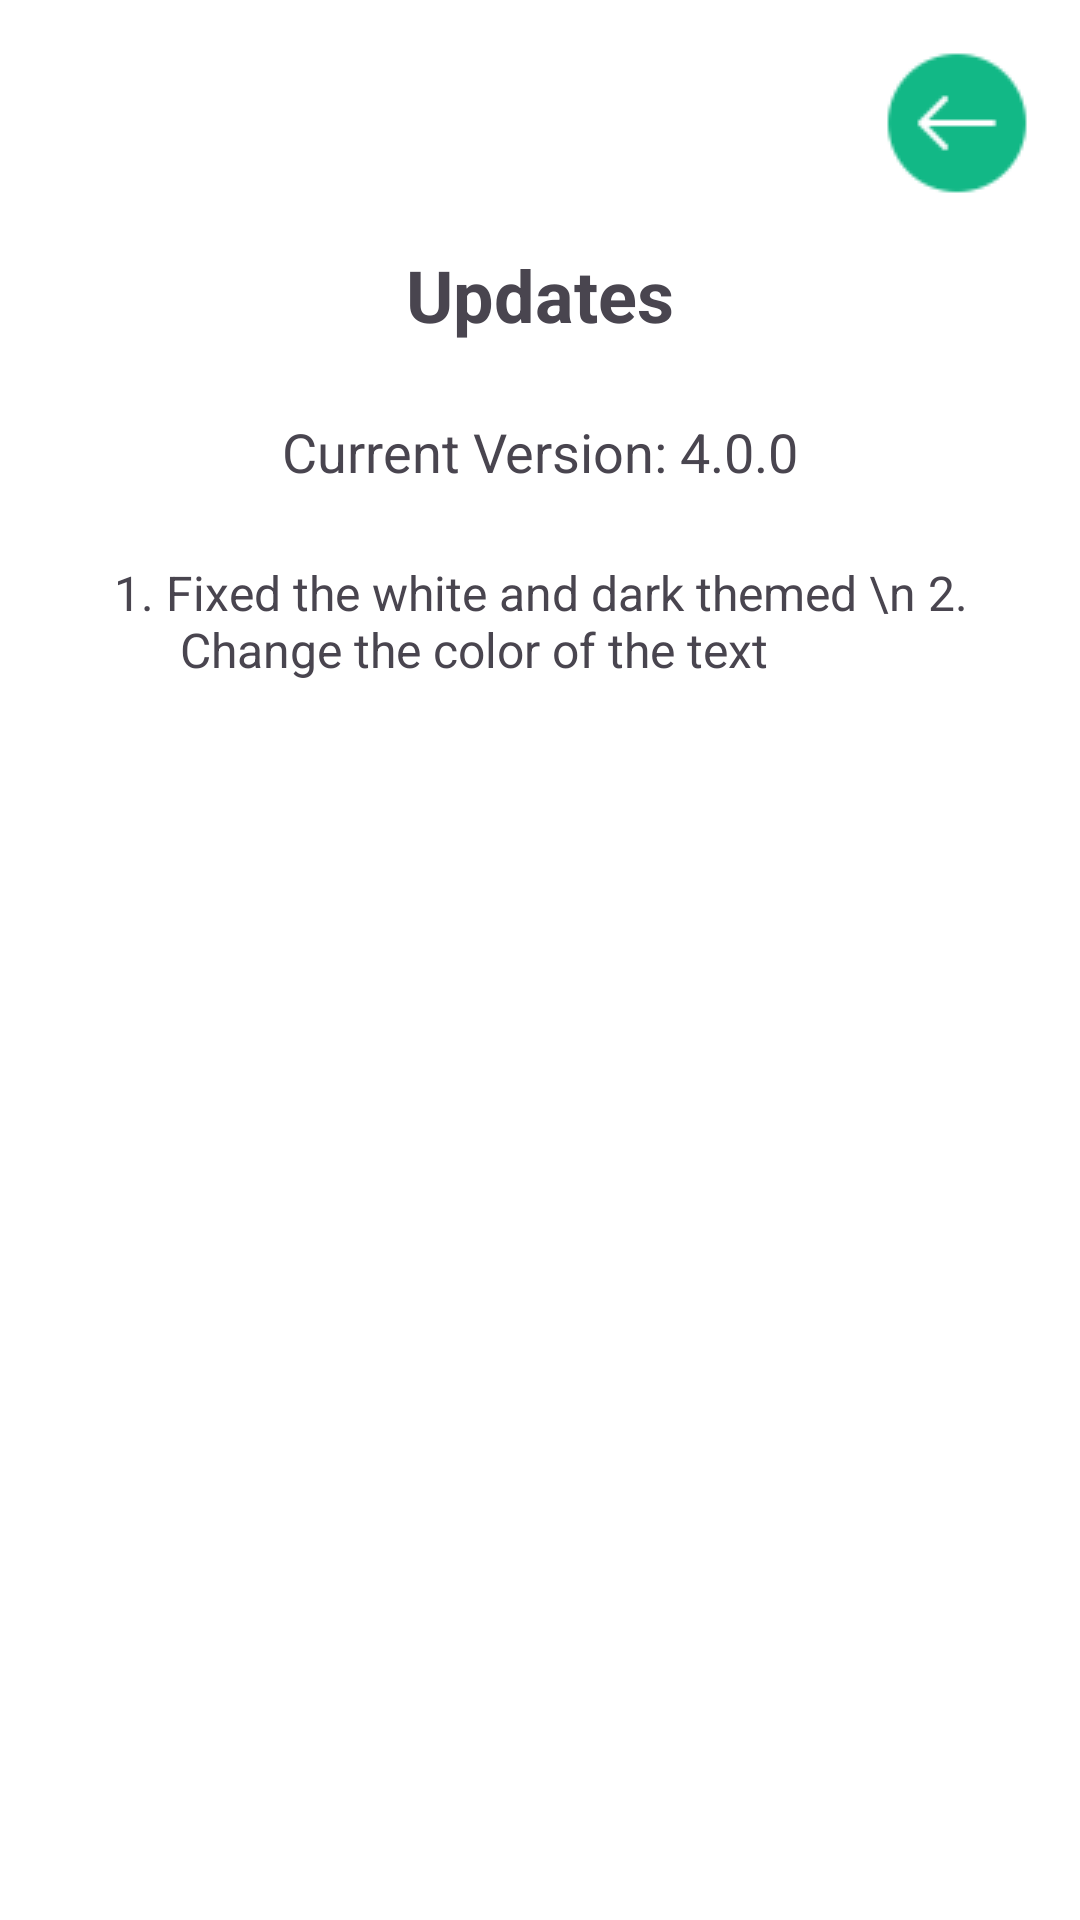

Named icons in this screenshot (1080w x 1920h) and their bounding boxes, box(x1, y1, x2, y2):
Back Button: box(887, 53, 1027, 193)
